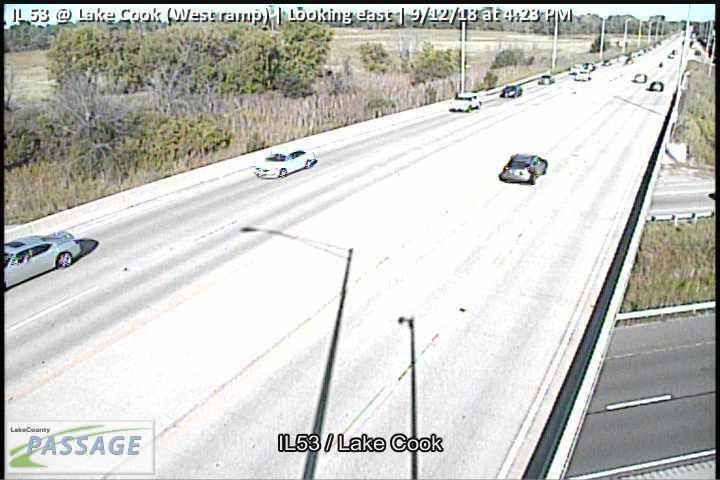SUV: (448, 92, 483, 113), (575, 71, 592, 80)
Sedan: (1, 230, 83, 293), (251, 150, 318, 178), (498, 154, 548, 185), (501, 85, 522, 99), (539, 75, 556, 84)
